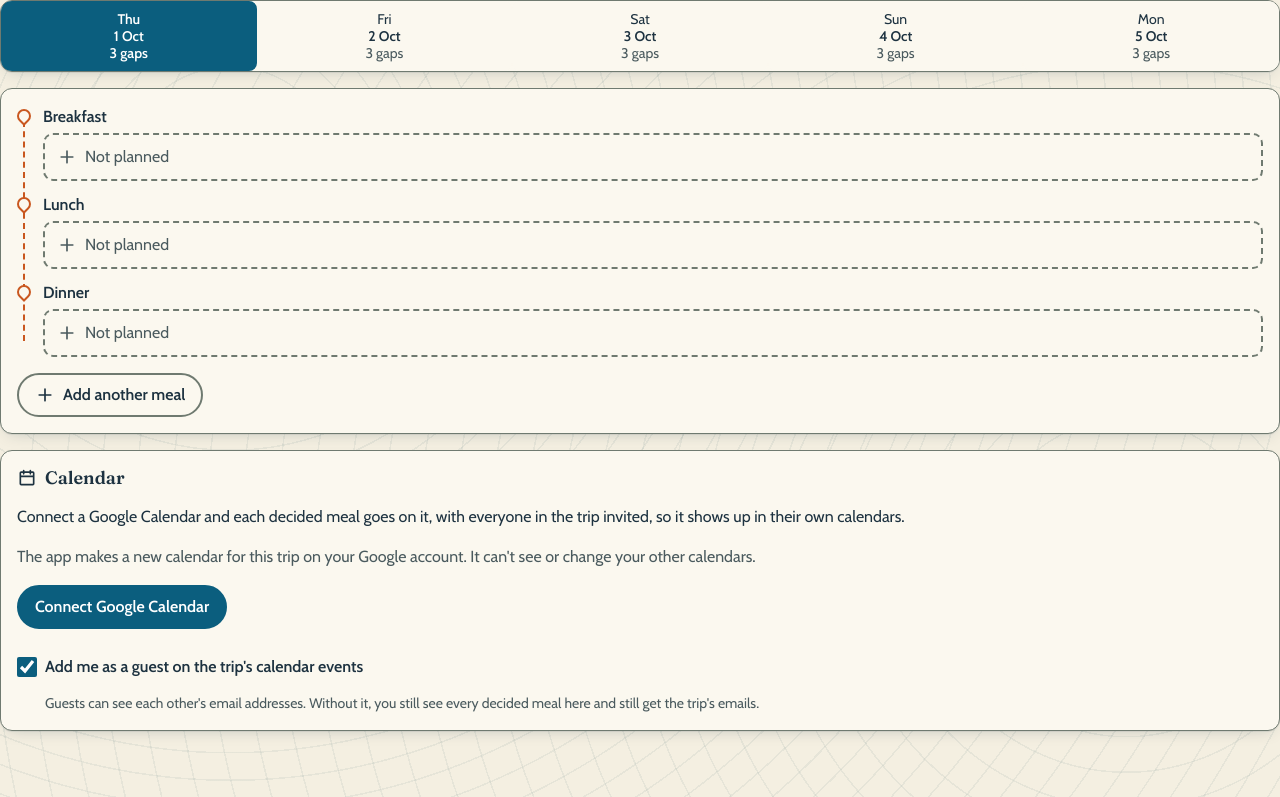
Test: adding meals › when someone else's lunch cannot be fetched yet, says it exists rather than that adding failed
The width and height of the screenshot is (1280, 797).
Click the button "Lunch Not planned" at (653, 231), box [43,193,1263,269]
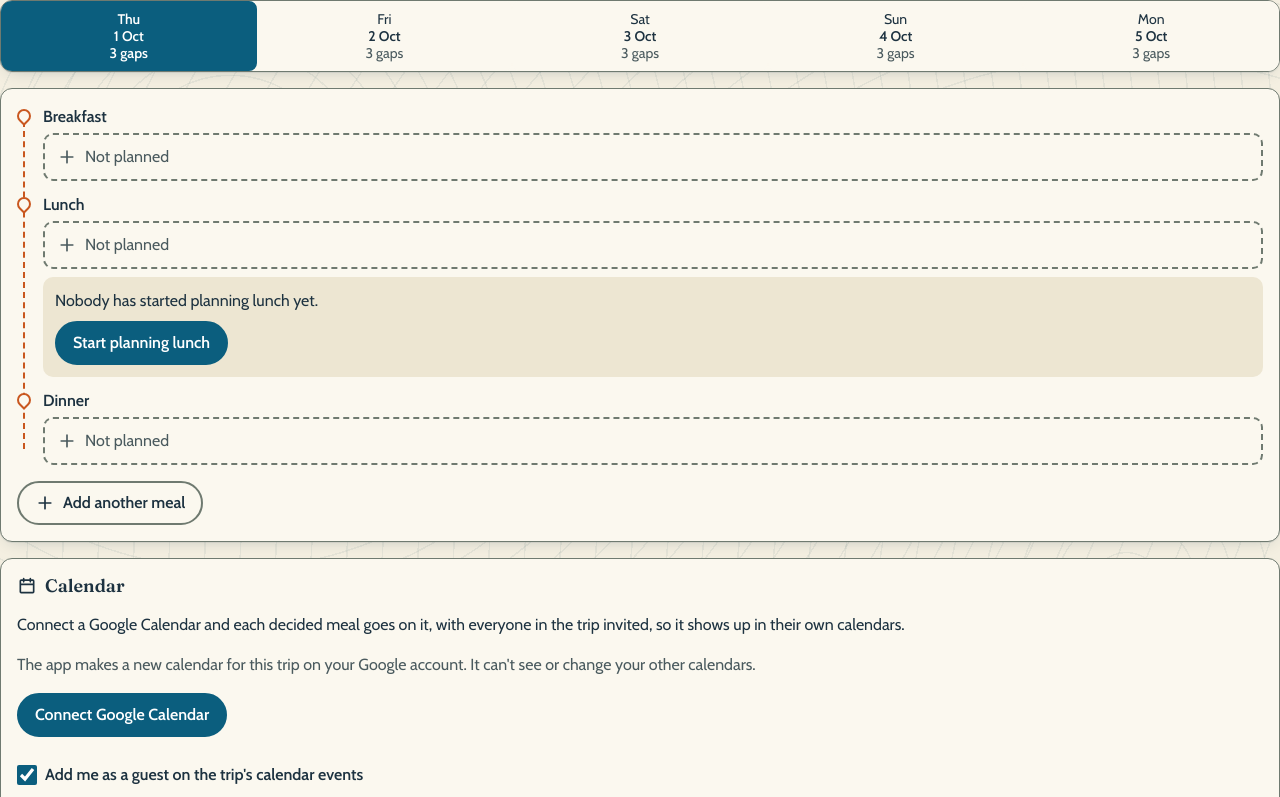
Click the button "Start planning lunch" at (142, 343), box [55,321,228,365]
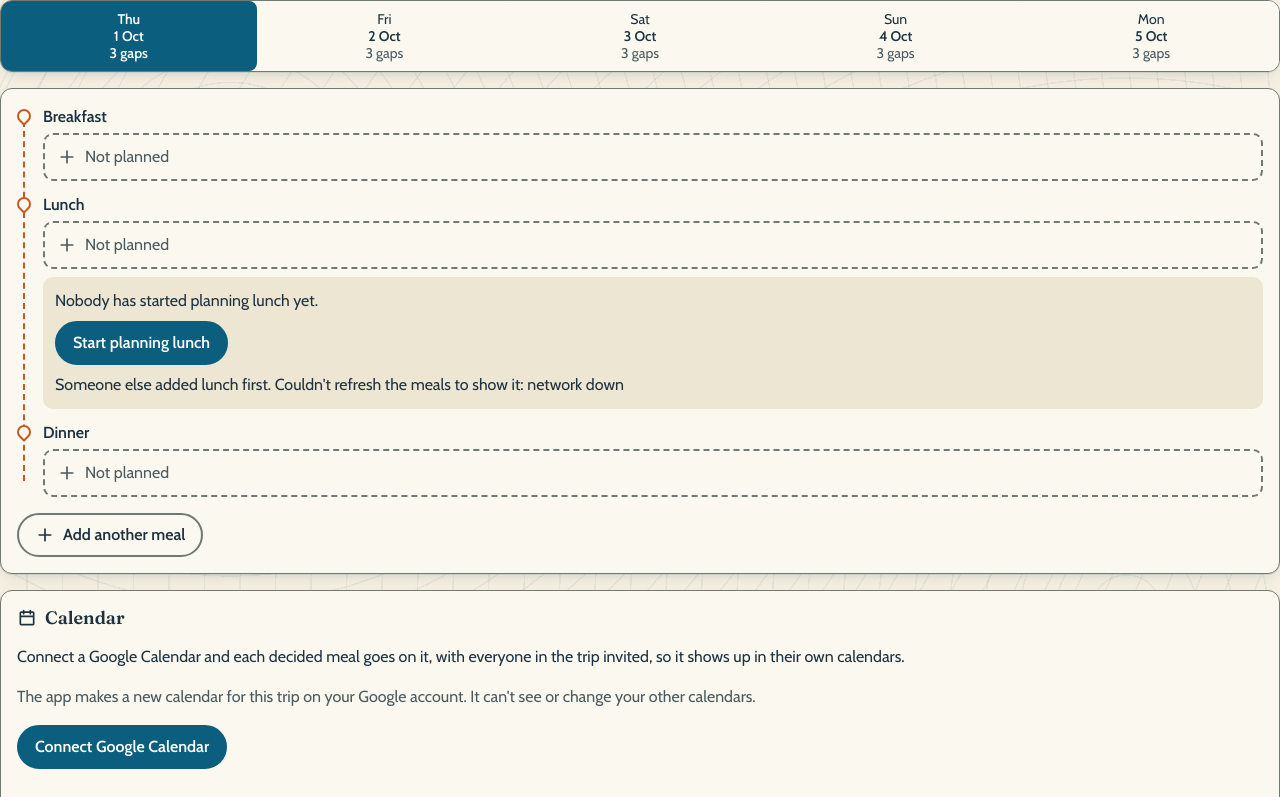
Check: the text "Someone else added lunch first" is shown, box [55,375,624,394]
Check: the text "Couldn't refresh the meals to show it: network down" is shown, box [55,375,624,394]
